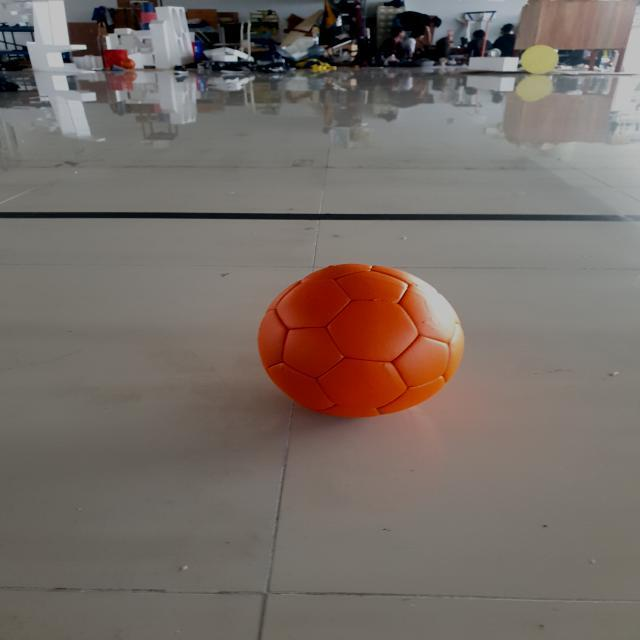bola: (248, 248, 470, 424)
